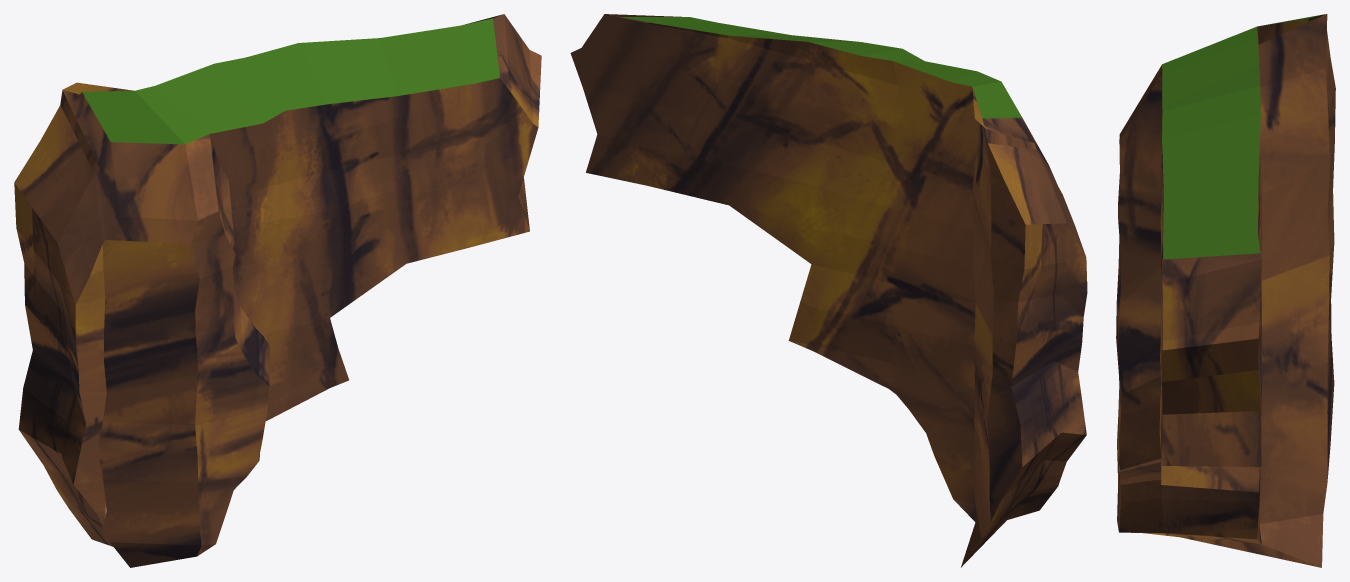
File: sali22.obj
3 views of the same model, side by side, from view 1: azimuth 30°, elevation 25°; view 2: azimuth 150°, elevation 25°; view 3: azimuth 270°, elevation 25° (orthographic). The views are drawn at different scales.
Visible parts, largest first — view 1: Plane.006_Plane.005; view 2: Plane.006_Plane.005; view 3: Plane.006_Plane.005.
Part boxes in pixels (x1,y1,x2,y2): Plane.006_Plane.005: (14, 14, 541, 567); Plane.006_Plane.005: (570, 14, 1087, 567); Plane.006_Plane.005: (1116, 14, 1335, 567).
Bounding box in the file's own units: 190 × 173 × 61.49.
1 material, 1 textured.
